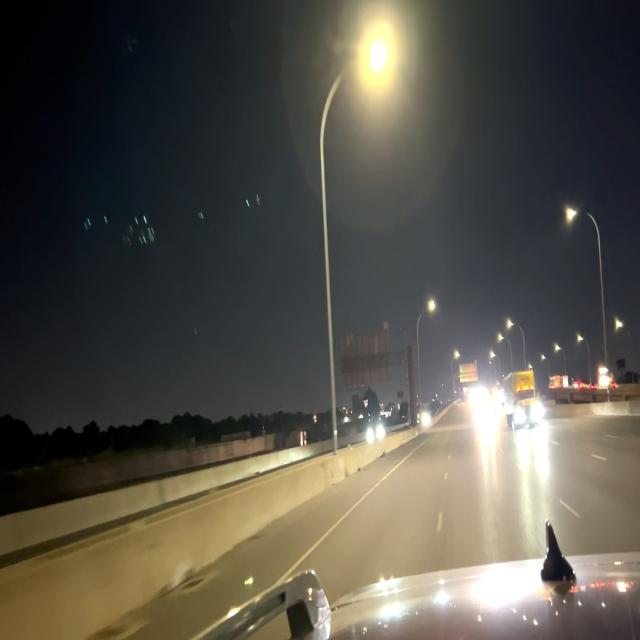back-of-sign: (340, 321, 391, 391), (459, 359, 479, 383)
